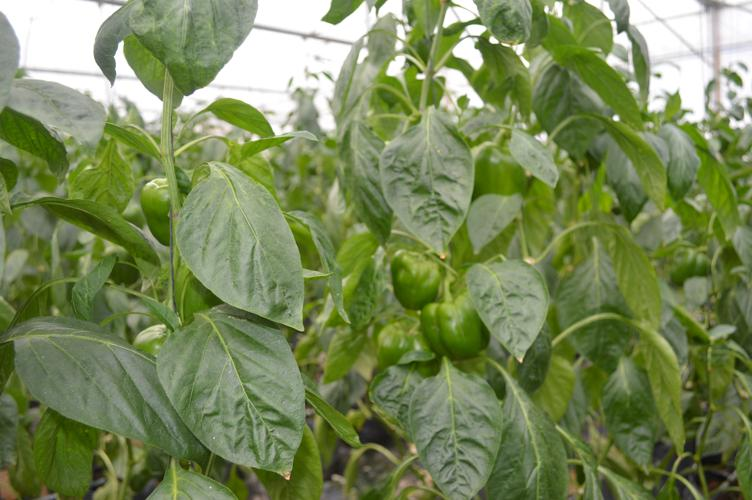BellPepper: (371, 322, 442, 375), (463, 145, 526, 197), (424, 303, 483, 357), (388, 251, 438, 305), (141, 180, 181, 243), (170, 272, 214, 315)
